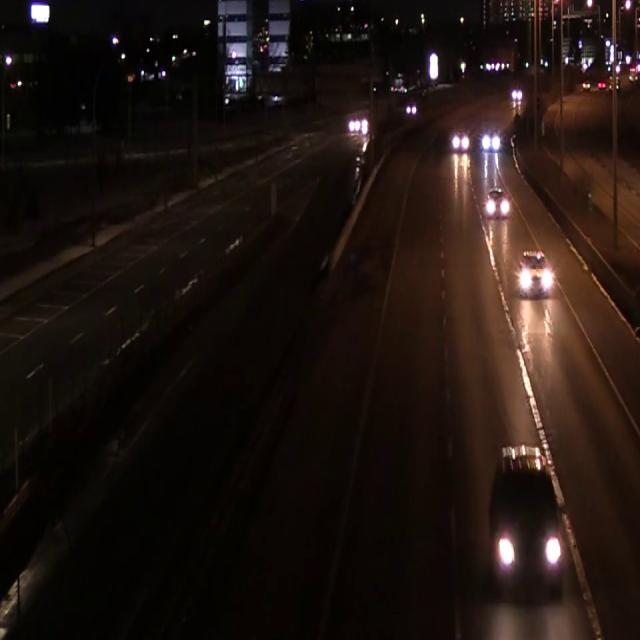car: (487, 445, 565, 592), (517, 250, 554, 300), (484, 186, 512, 222), (481, 129, 501, 155), (452, 129, 469, 152), (511, 86, 523, 101)
